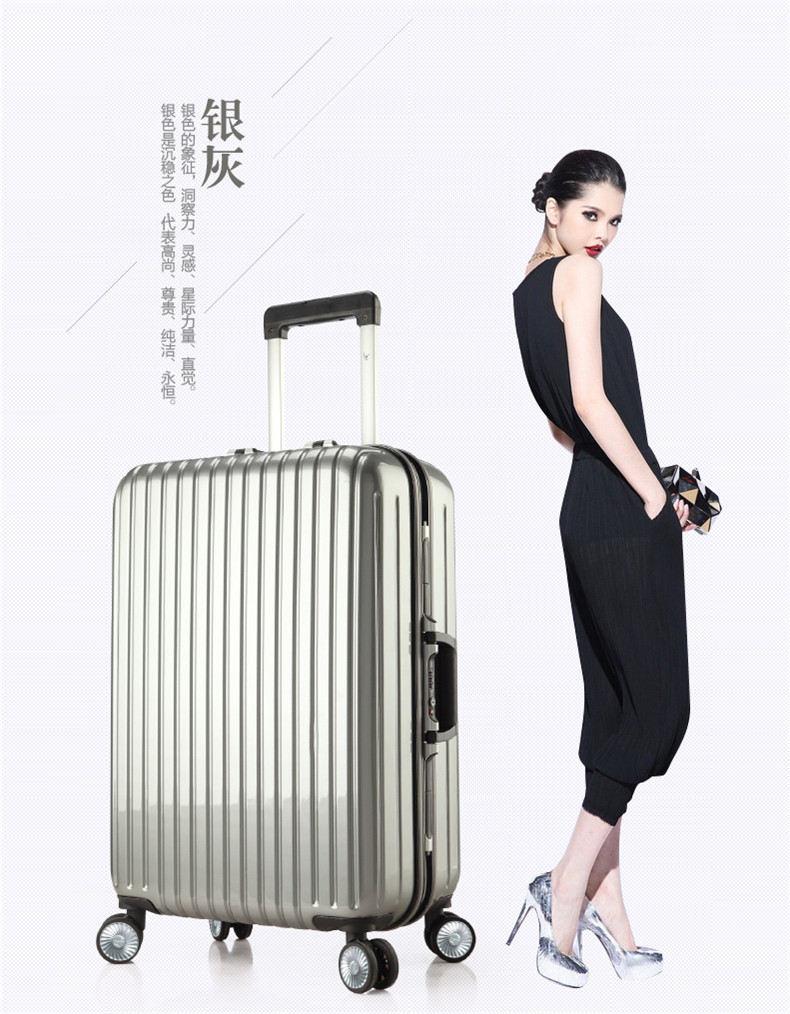luggage: (97, 290, 478, 992)
